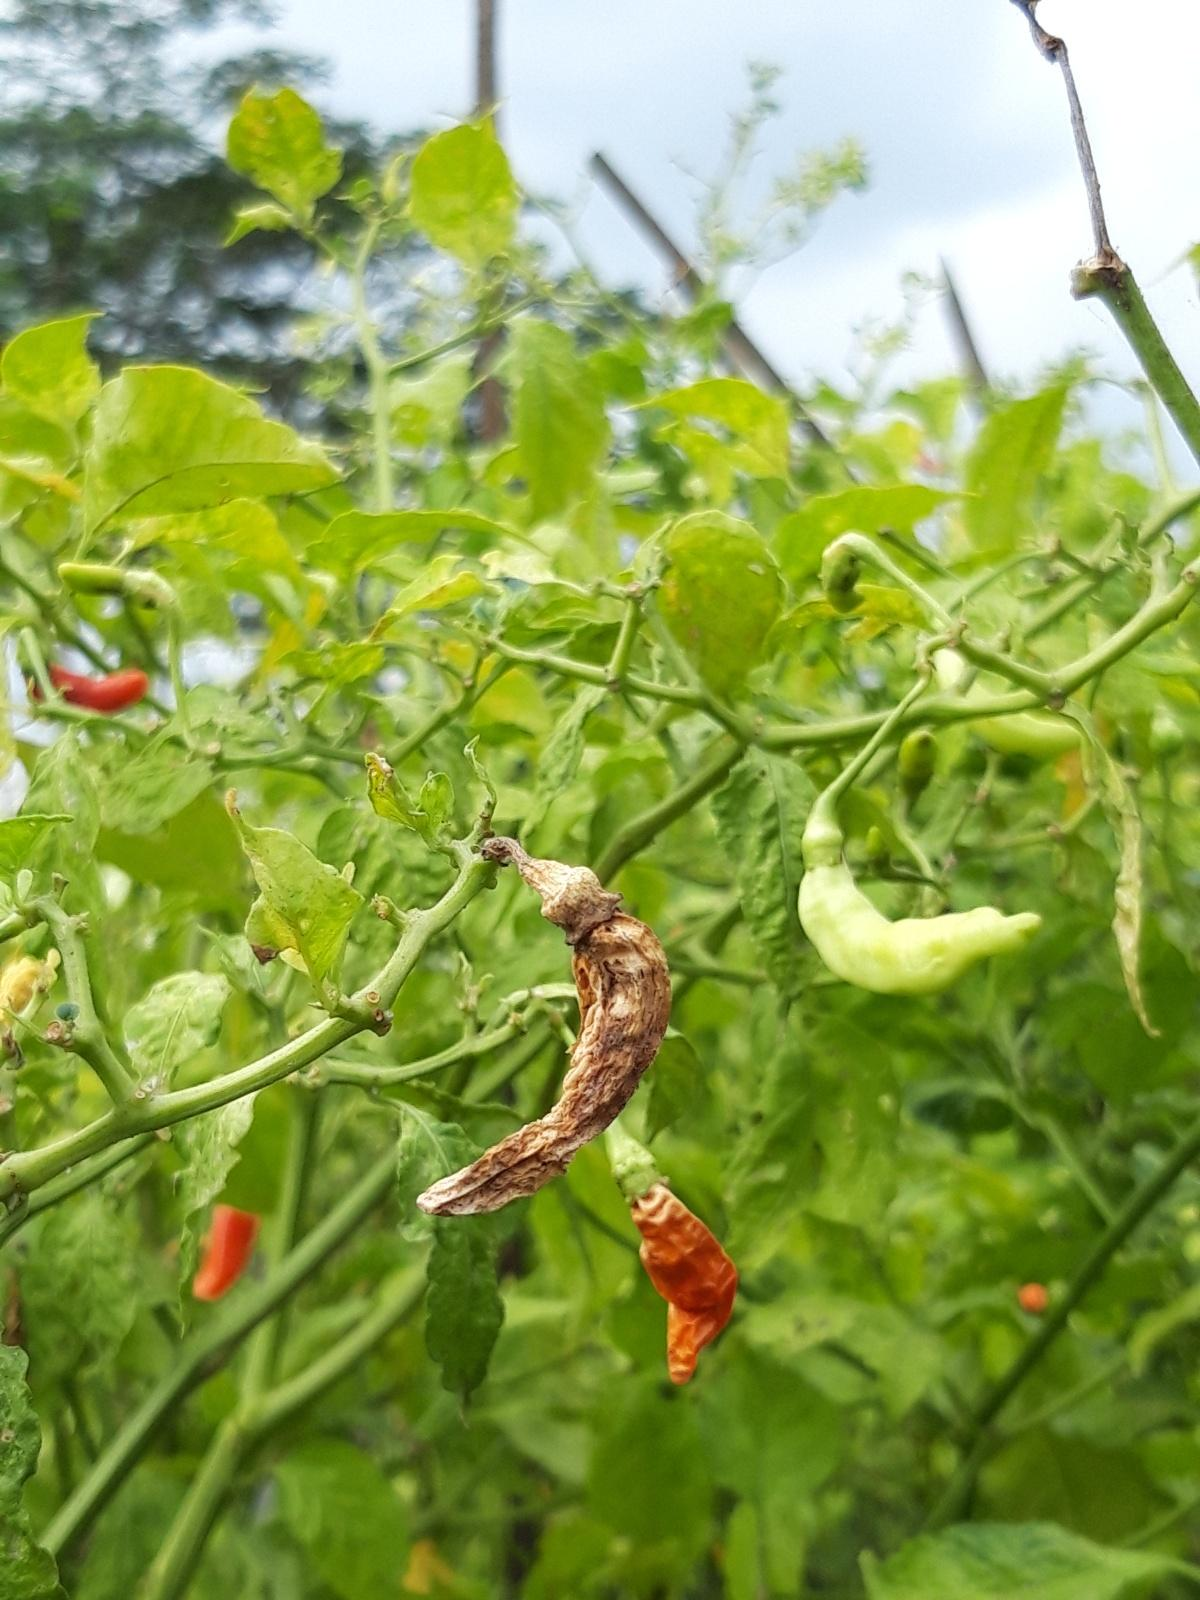antraknosa: (415, 859, 673, 1216), (611, 1151, 737, 1385)
cabai_normal: (797, 820, 1042, 995), (193, 1199, 261, 1301)
lalat_buah: (57, 562, 142, 597)
